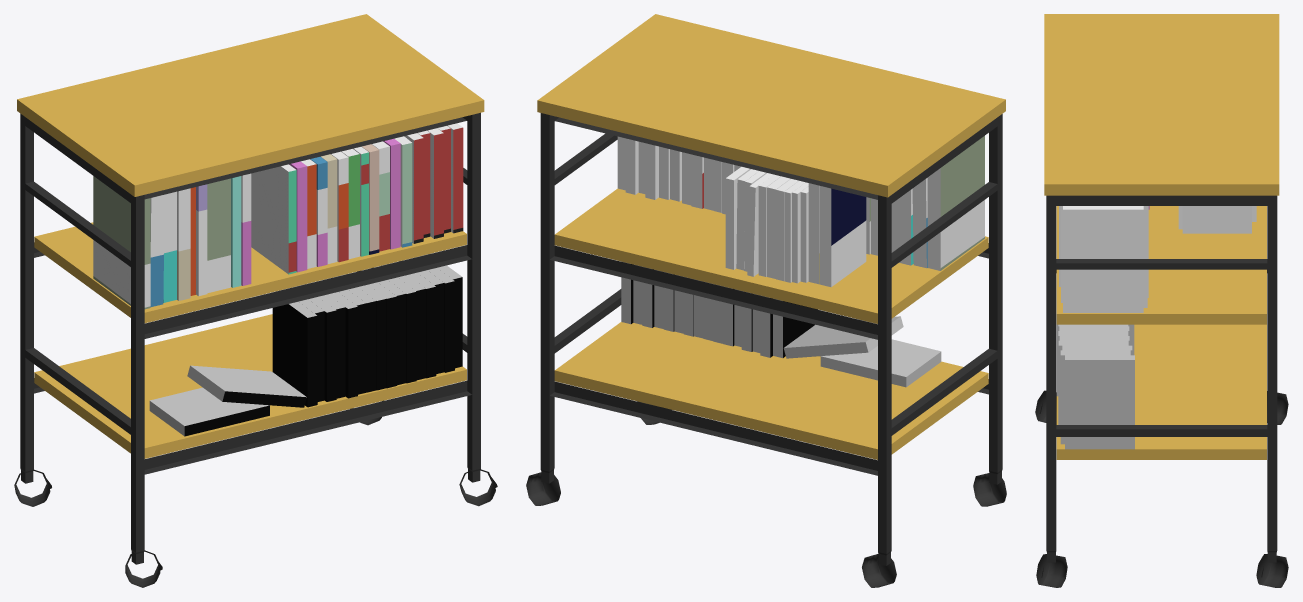
Rendered from BookShelf.fbx.
The picture shows the model from 3 angles, left to right: view 1: azimuth 30°, elevation 25°; view 2: azimuth 150°, elevation 25°; view 3: azimuth 270°, elevation 25°; orthographic projection.
Parts seen in each view (by area): view 1: Plane, Plane.002, Cube, Plane.003, Plane.001, Cube.029, Cube.002, book_low, book_low.058, book_low.059, Cube.010, Cube.003 (+41 smaller); view 2: Plane, Plane.002, Plane.001, Cube, Plane.003, Cube.002, Cube.041, Cube.003, book_low.058, Cube.001, book_low.059, Plane.004 (+20 smaller); view 3: Plane, Plane.002, Plane.001, Cube, Cube.015, book_low.015, Cube.003, Cube.004, Cube.001, Cube.030, Cylinder.001, Cylinder (+8 smaller).
Boxes of the visible parts, x1,y1,x2,y2 form: Plane: [17, 14, 484, 196]; Plane.002: [34, 314, 466, 458]; Cube: [20, 112, 480, 564]; Plane.003: [34, 242, 472, 474]; Plane.001: [34, 222, 466, 323]; Cube.029: [251, 164, 296, 274]; Cube.002: [93, 176, 150, 309]; book_low: [272, 290, 317, 407]; book_low.058: [149, 387, 269, 436]; book_low.059: [187, 365, 306, 407]; Cube.010: [207, 178, 230, 293]; Cube.003: [24, 267, 467, 434]; Plane: [537, 14, 1005, 197]; Plane.002: [554, 322, 988, 459]; Plane.001: [554, 188, 988, 323]; Cube: [540, 113, 1002, 565]; Plane.003: [549, 243, 988, 475]; Cube.002: [927, 136, 984, 270]; Cube.041: [819, 185, 866, 287]; Cube.003: [553, 289, 998, 436]; book_low.058: [820, 339, 941, 387]; Cube.001: [553, 133, 997, 267]; book_low.059: [783, 316, 903, 358]; Plane.004: [554, 116, 877, 199]; Plane: [1044, 14, 1279, 195]; Plane.002: [1056, 324, 1266, 459]; Plane.001: [1056, 206, 1266, 324]; Cube: [1046, 195, 1277, 562]; Cube.015: [1063, 206, 1143, 312]; book_low.015: [1065, 355, 1134, 449]; Cube.003: [1053, 270, 1267, 436]; Cube.004: [1053, 195, 1267, 205]; Cube.001: [1053, 259, 1267, 269]; Cube.030: [1182, 206, 1251, 233]; Cylinder.001: [1256, 554, 1288, 587]; Cylinder: [1036, 554, 1067, 587].
Bounding box in the file's own units: 207 × 216 × 123.
